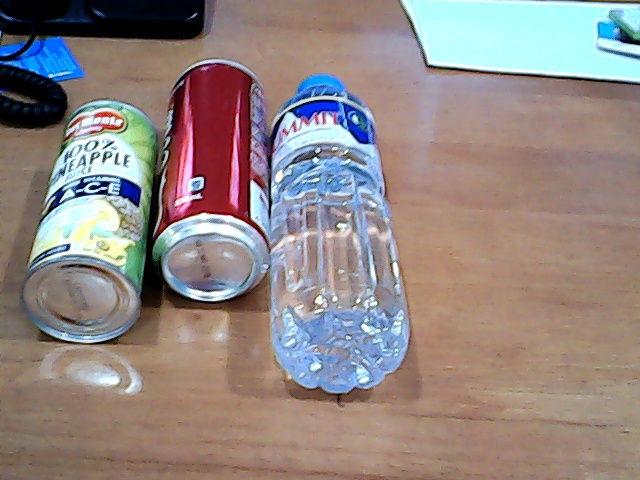Cola: (141, 50, 282, 312)
Pine Juice: (24, 90, 161, 349)
Summit Water: (266, 48, 428, 400)
